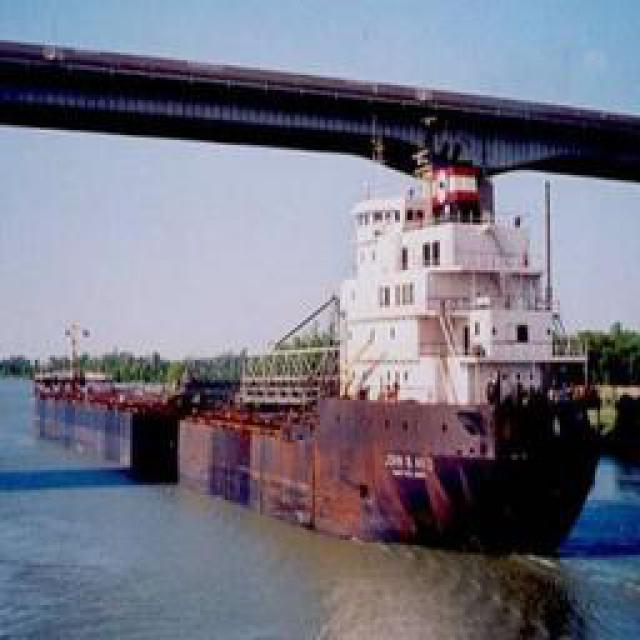Ship: (13, 160, 624, 563)
